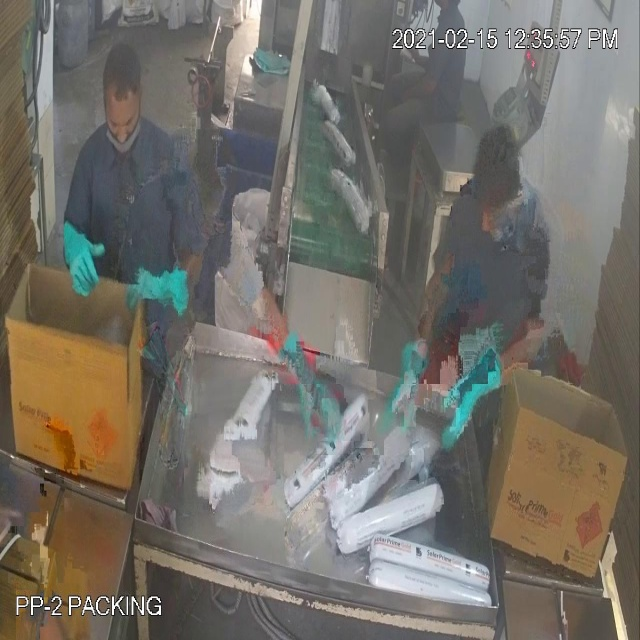Guantes: (444, 347, 507, 453), (60, 211, 105, 312)
